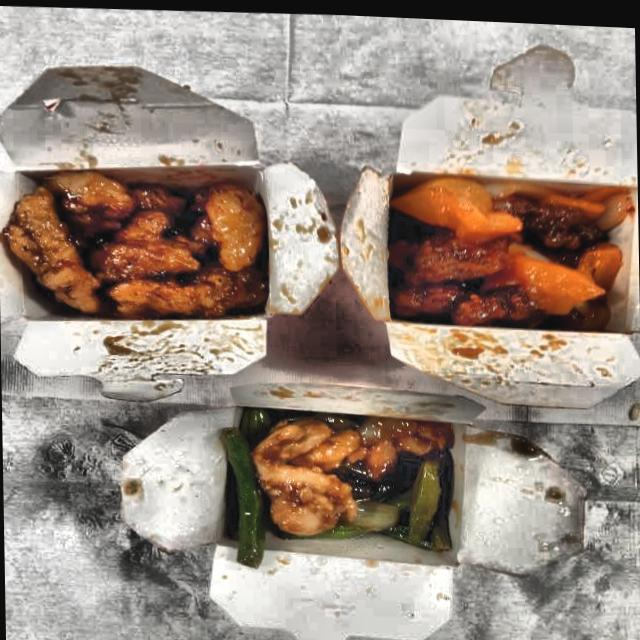Food: (1, 153, 269, 332), (385, 163, 629, 328)
